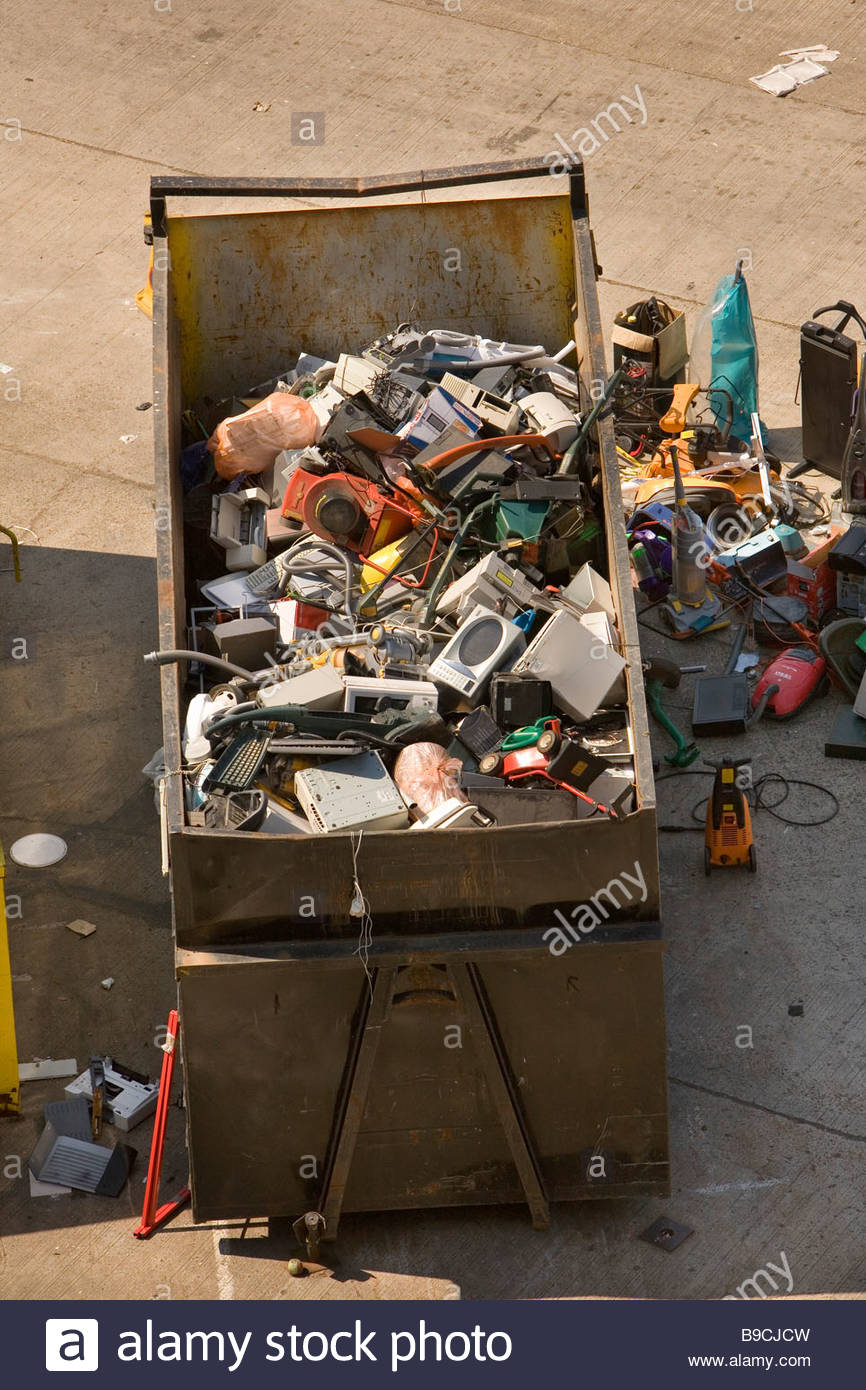Dumpster: (127, 147, 715, 1271)
